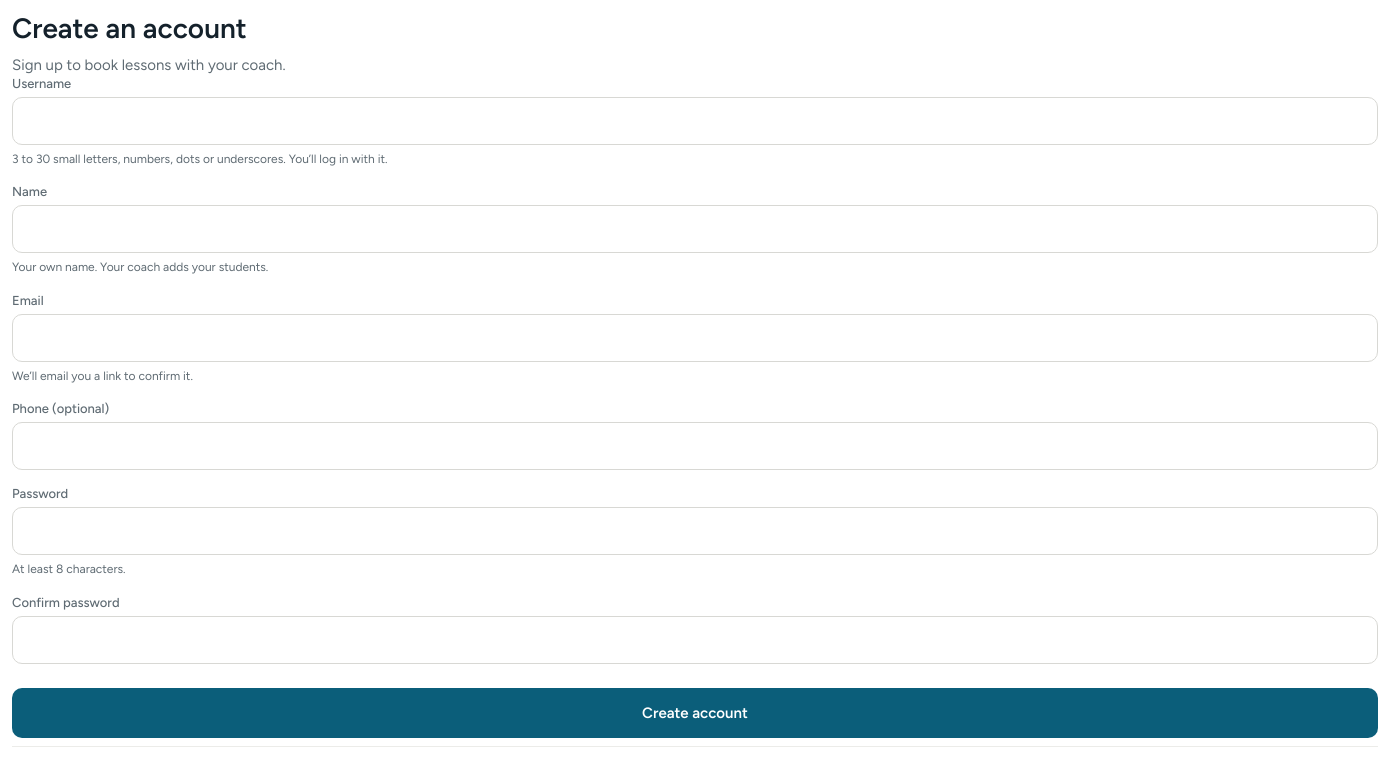
Test case: SignUpPage › names the wrong format only once the field is left with something in it
Type "n" into the field labelled "Username".
click(695, 121); type("n")  # box [12,97,1378,145]
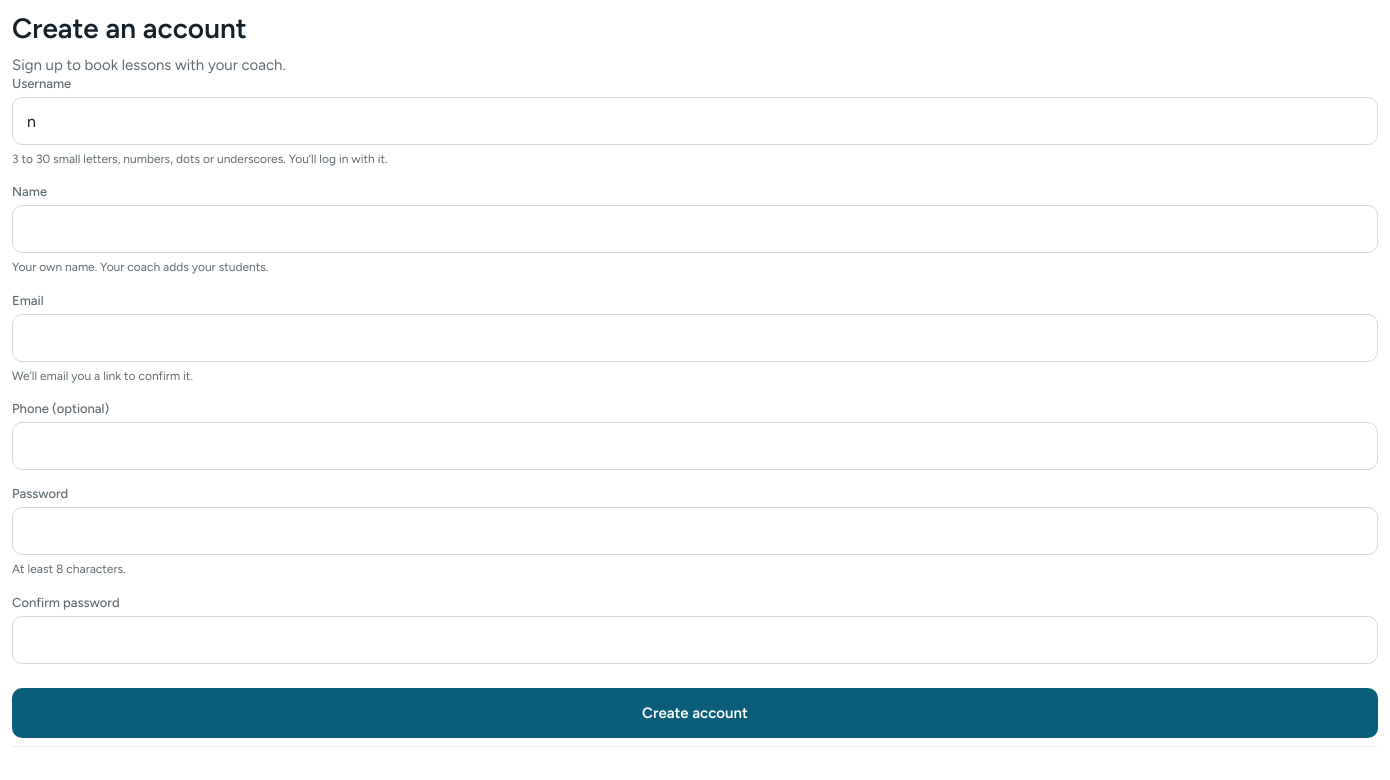
Expected: the text "Use 3 to 30" is not shown
Expected: the text "You’ll log in with it" is shown, [12,152,388,166]
Leave the field labelled "Username", box [12,97,1378,145]
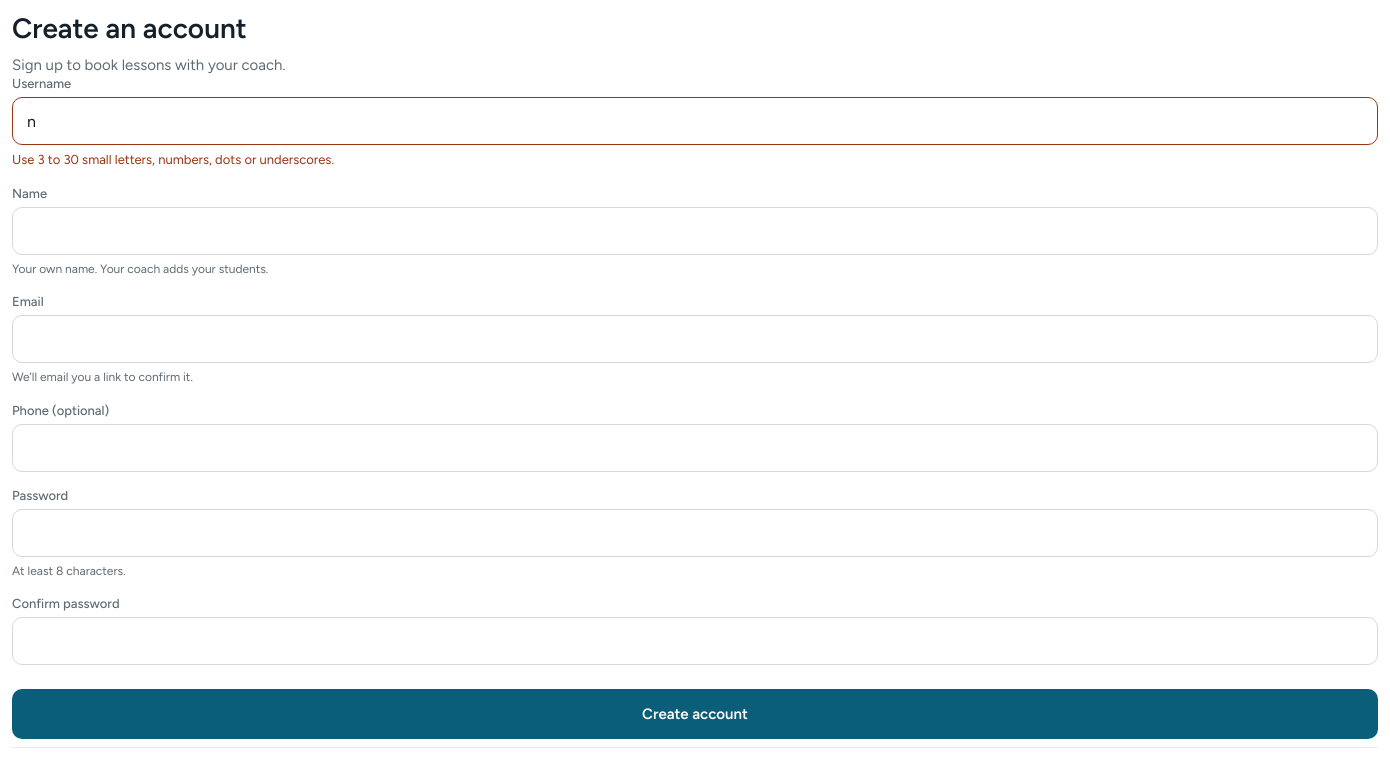
Expected: the text "Use 3 to 30 small letters, numbers, dots or underscores." is shown, [12,152,334,167]
